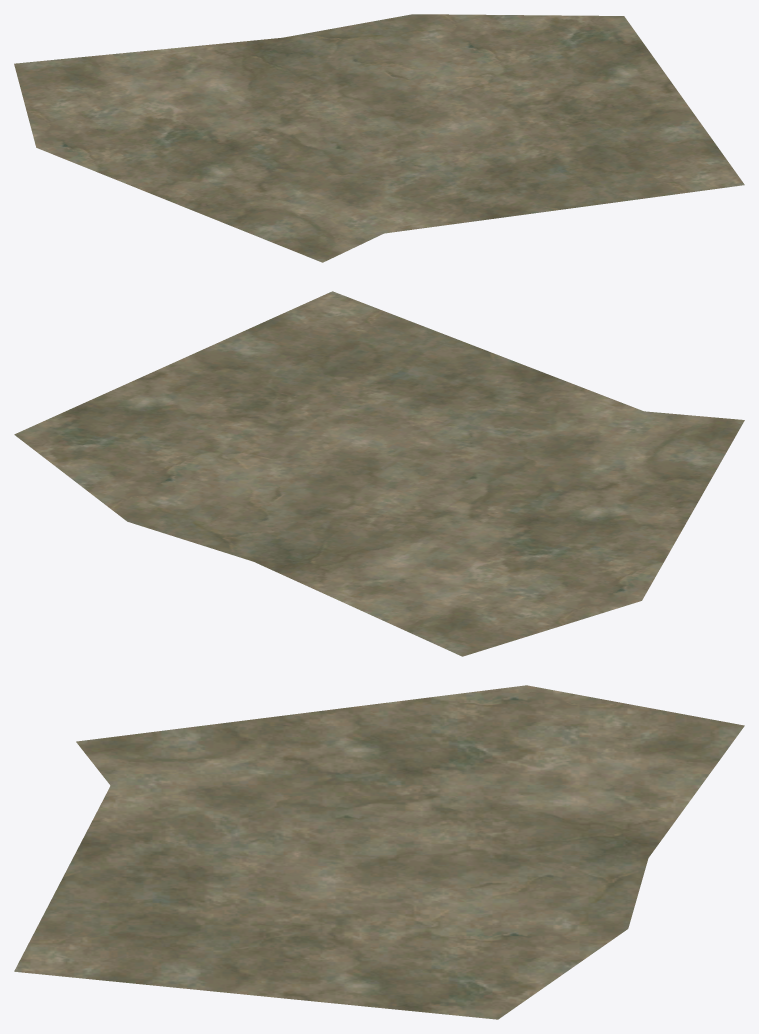
Rendered from OVERHILL_A_01_GROUND3.fbx.
3 renders of one model, top to bottom at view 1: azimuth 30°, elevation 25°; view 2: azimuth 150°, elevation 25°; view 3: azimuth 270°, elevation 25°, orthographic. The views are drawn at different scales.
Visible parts, largest first — view 1: OVERHILL_A_01_GROUND3; view 2: OVERHILL_A_01_GROUND3; view 3: OVERHILL_A_01_GROUND3.
Part boxes in pixels (left/top/right/bottom): OVERHILL_A_01_GROUND3: left=14, top=14, right=744, bottom=262; OVERHILL_A_01_GROUND3: left=14, top=291, right=744, bottom=656; OVERHILL_A_01_GROUND3: left=14, top=685, right=744, bottom=1019.
Bounding box in the file's own units: 28373 × 0.00427 × 26209.
1 material, 1 textured.
